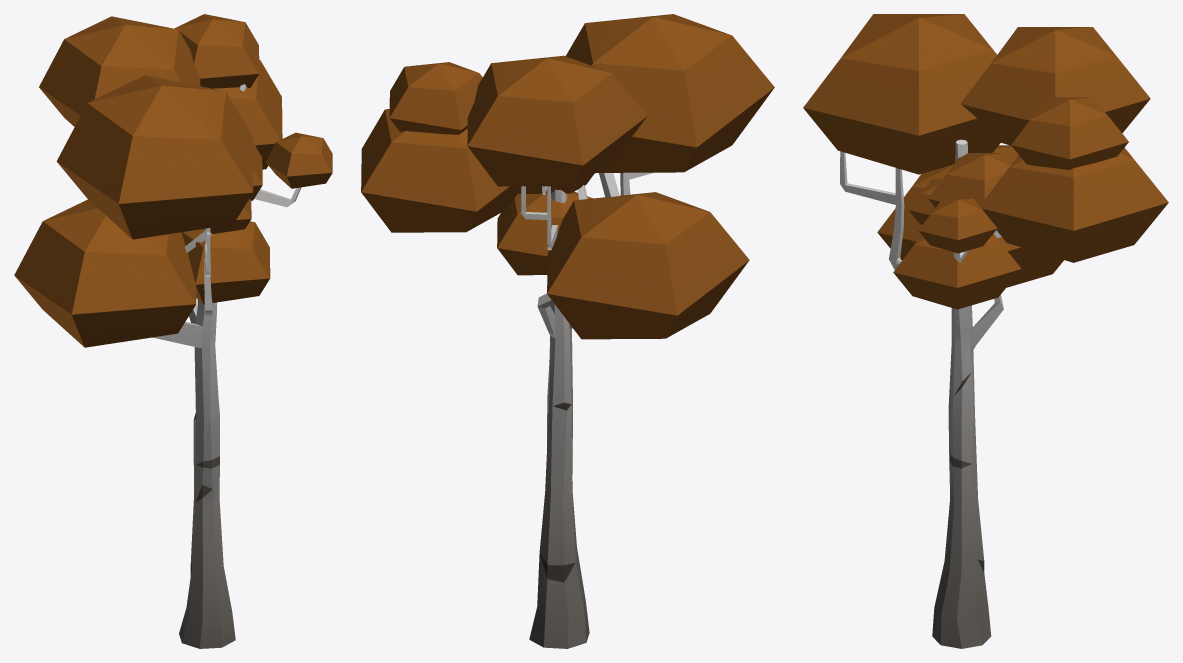
Rendered from arbol7.fbx.
3 views of the same model, side by side, from view 1: azimuth 30°, elevation 25°; view 2: azimuth 150°, elevation 25°; view 3: azimuth 270°, elevation 25° (orthographic). The views are drawn at different scales.
Parts seen in each view (by area): view 1: arbol7; view 2: arbol7; view 3: arbol7.
Boxes of the visible parts, x1=… form: arbol7: x1=14, y1=14, x2=332, y2=648; arbol7: x1=361, y1=14, x2=774, y2=648; arbol7: x1=803, y1=14, x2=1168, y2=648.
Size of the model in its own units: 1329 by 2590 by 1458.
